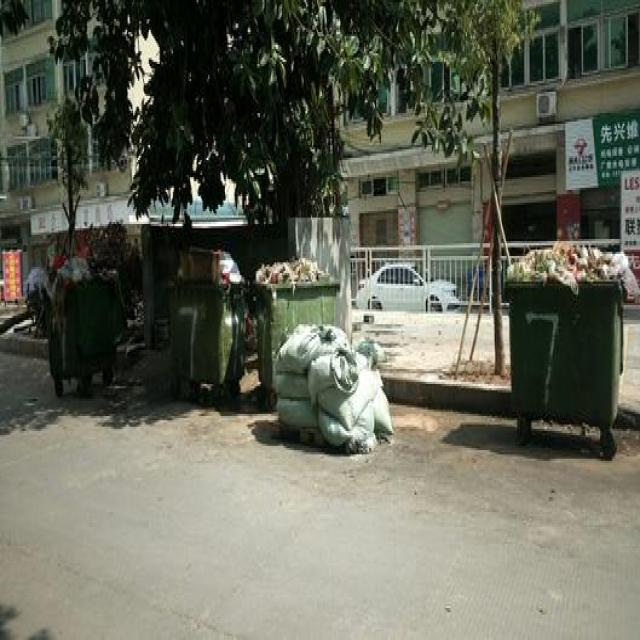overflow: (503, 237, 638, 420), (250, 254, 339, 388), (25, 256, 120, 375), (168, 247, 248, 382)
